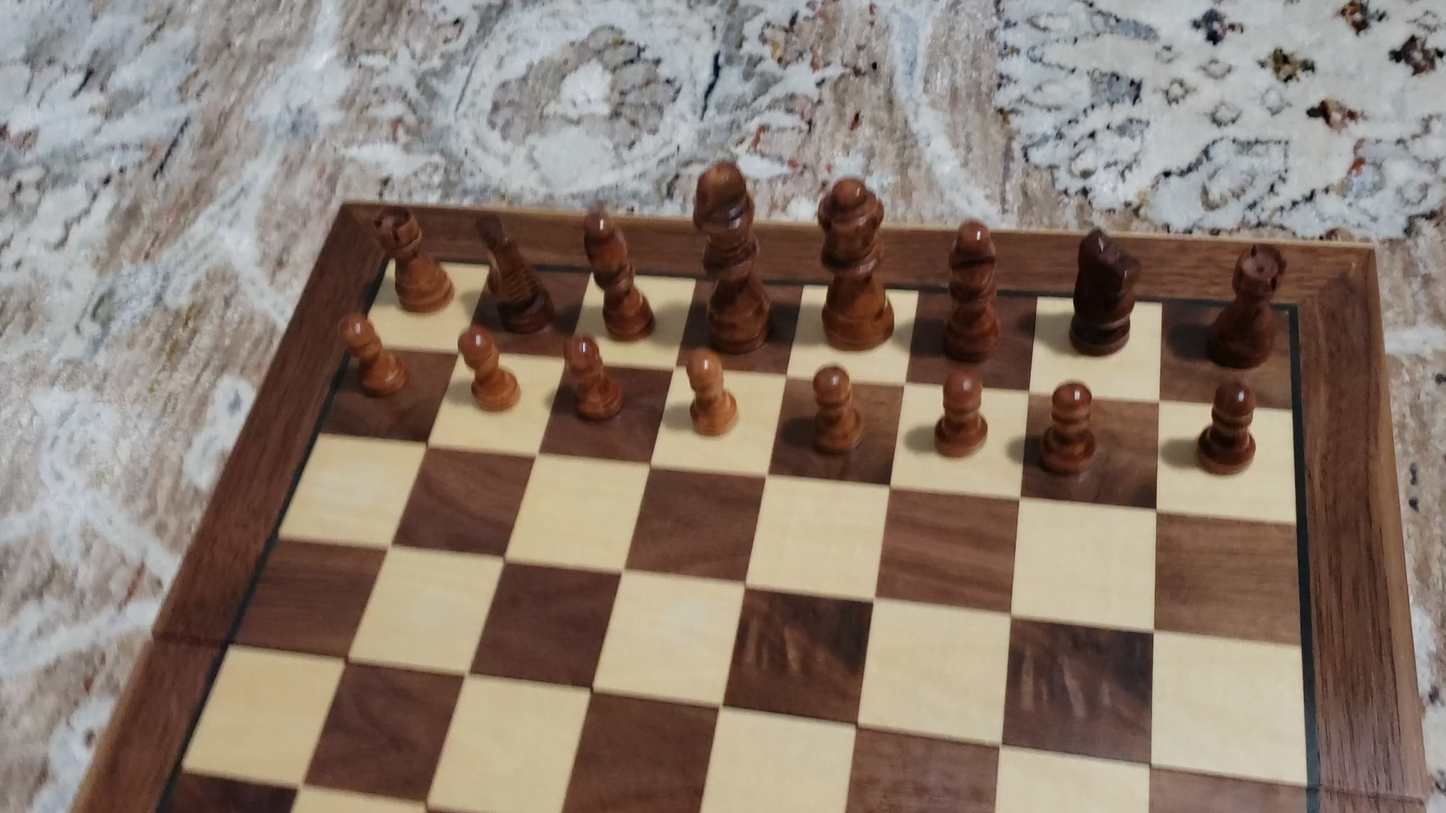black-bishop: (579, 203, 658, 343), (943, 216, 1001, 364)
black-king: (689, 157, 777, 356)
black-knight: (473, 209, 556, 335), (1065, 222, 1142, 355)
black-pawn: (1194, 377, 1262, 479), (1036, 378, 1101, 481), (336, 311, 409, 401), (561, 332, 625, 425), (456, 324, 520, 414), (932, 365, 991, 461), (809, 360, 866, 457), (682, 344, 740, 439)
black-queen: (811, 172, 896, 352)
black-rook: (1201, 241, 1290, 371), (370, 203, 454, 314)
